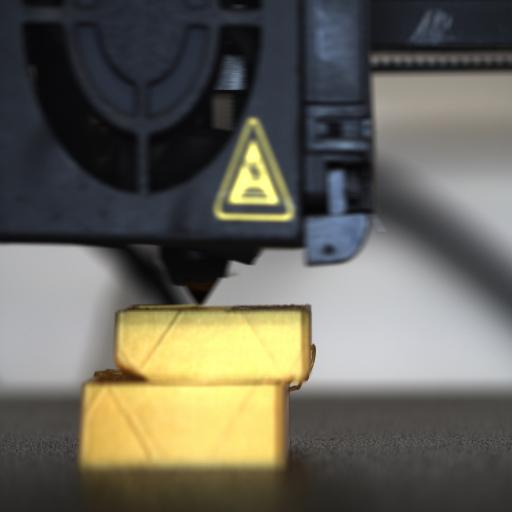layer_shift: (79, 362, 313, 398)
